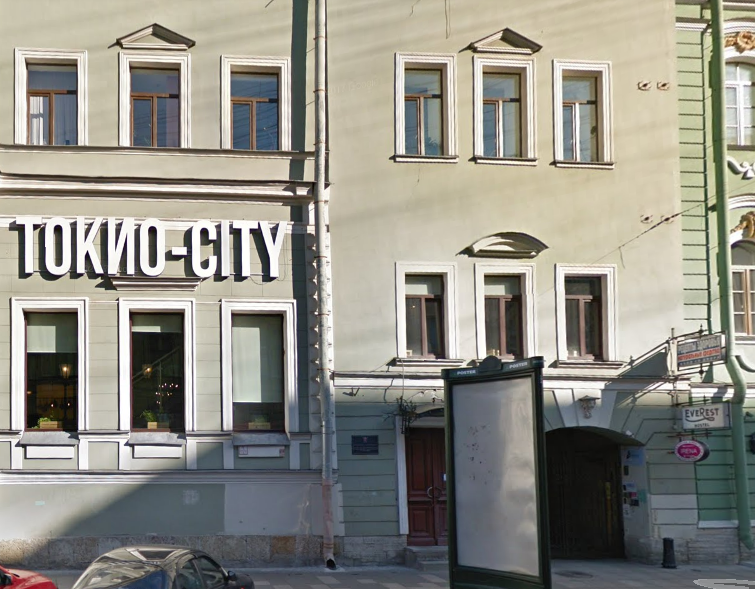arch: (544, 423, 664, 573)
cantilever: (660, 319, 734, 376), (667, 395, 738, 435), (661, 440, 712, 463)
door: (405, 431, 447, 546)
signboard: (8, 202, 301, 300)
window: (129, 309, 187, 437), (24, 312, 78, 433), (232, 312, 283, 431), (128, 63, 182, 148), (26, 61, 80, 145), (564, 274, 614, 363), (402, 61, 446, 161), (232, 63, 281, 149), (481, 64, 523, 160), (484, 272, 526, 360), (410, 271, 452, 358), (562, 77, 602, 166)
